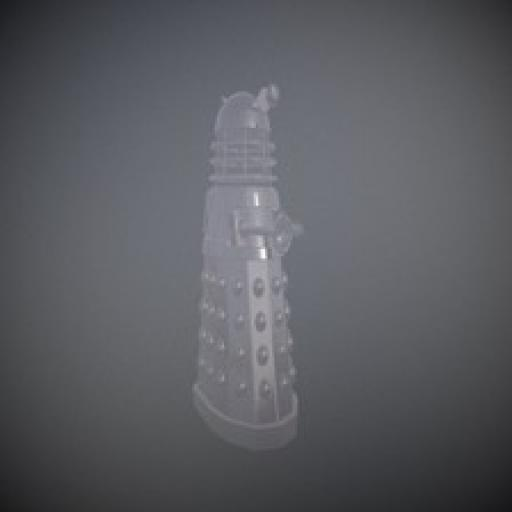dalek: (188, 82, 306, 452)
